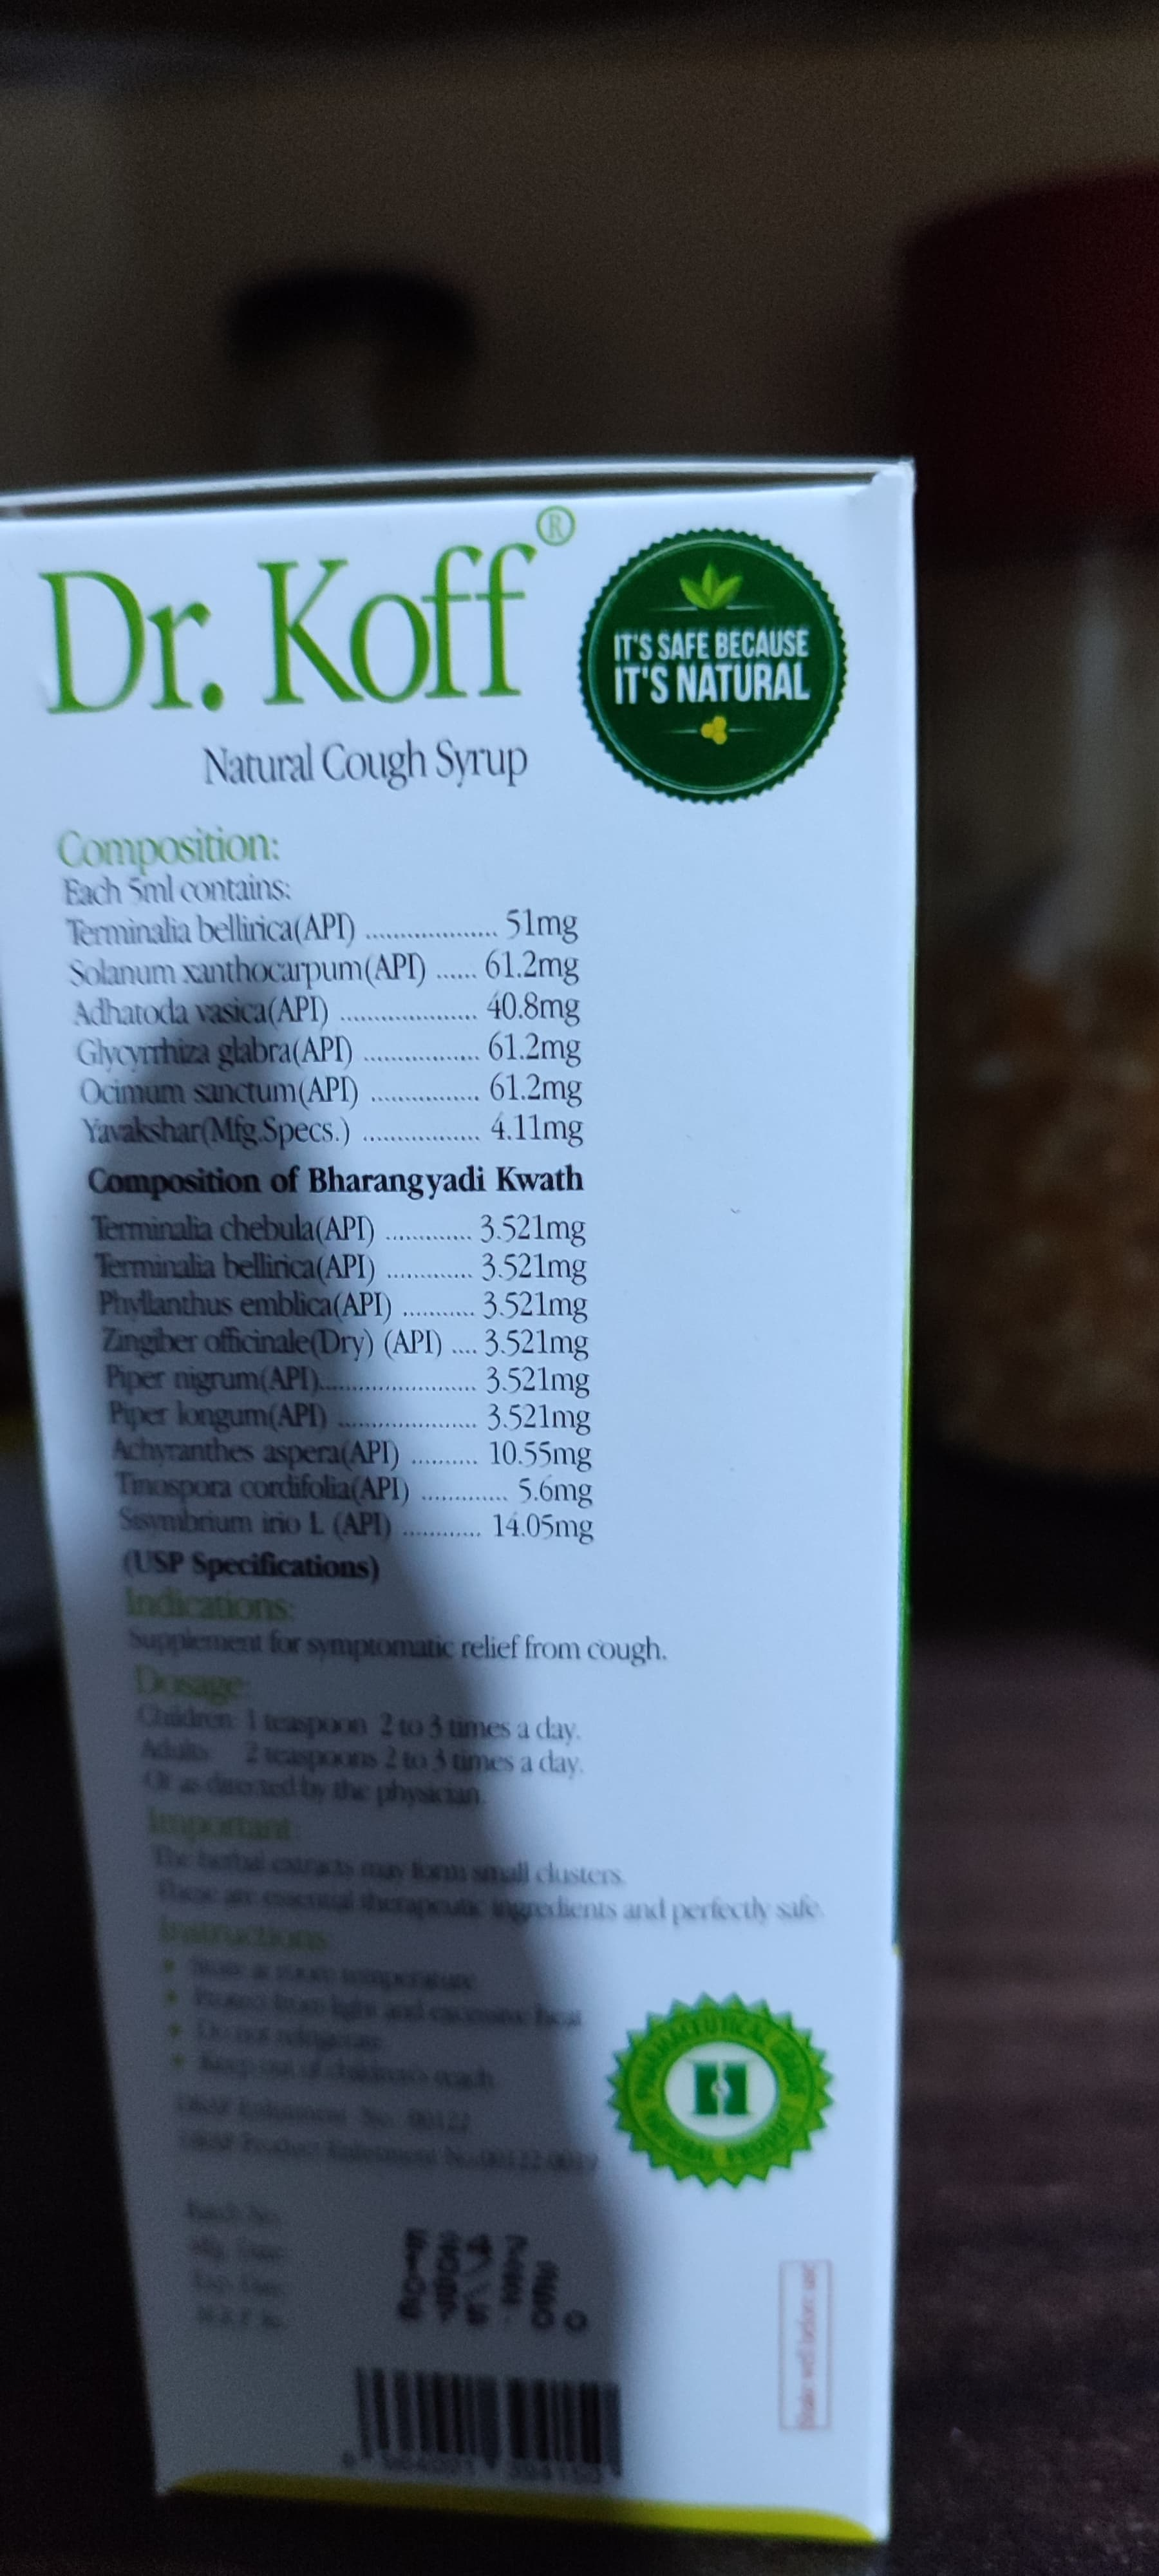table: (41, 823, 612, 1559)
